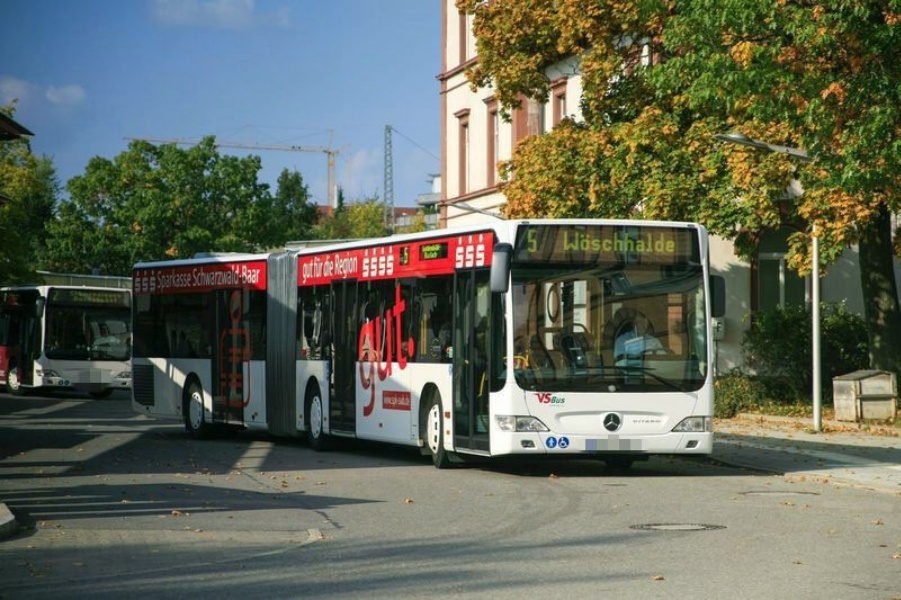text: (401, 277, 417, 422), (369, 277, 384, 422), (385, 277, 400, 422), (359, 277, 368, 422), (337, 252, 352, 279), (465, 245, 480, 270), (529, 229, 544, 253), (577, 231, 592, 253), (593, 231, 608, 253), (609, 231, 624, 253), (625, 231, 640, 253), (641, 231, 656, 253), (657, 231, 672, 253), (193, 265, 208, 286), (209, 265, 224, 286), (225, 265, 240, 286), (241, 265, 256, 286), (369, 256, 384, 277), (161, 270, 176, 289), (177, 270, 191, 289), (324, 255, 336, 277), (565, 231, 576, 253), (385, 393, 400, 408), (385, 256, 394, 277), (145, 276, 156, 293), (81, 292, 96, 304), (97, 292, 112, 304), (305, 259, 312, 284), (458, 245, 464, 270), (314, 256, 320, 279), (136, 276, 144, 293), (353, 252, 358, 279), (401, 393, 410, 408), (113, 292, 123, 304), (534, 392, 544, 404), (53, 291, 64, 301), (481, 245, 485, 270), (257, 265, 261, 286), (364, 256, 368, 277), (545, 392, 552, 404), (74, 292, 80, 304), (552, 396, 560, 404), (321, 256, 323, 279), (673, 231, 675, 253), (561, 396, 566, 404), (158, 270, 160, 289), (335, 252, 336, 279), (303, 259, 304, 284), (383, 393, 384, 408)
